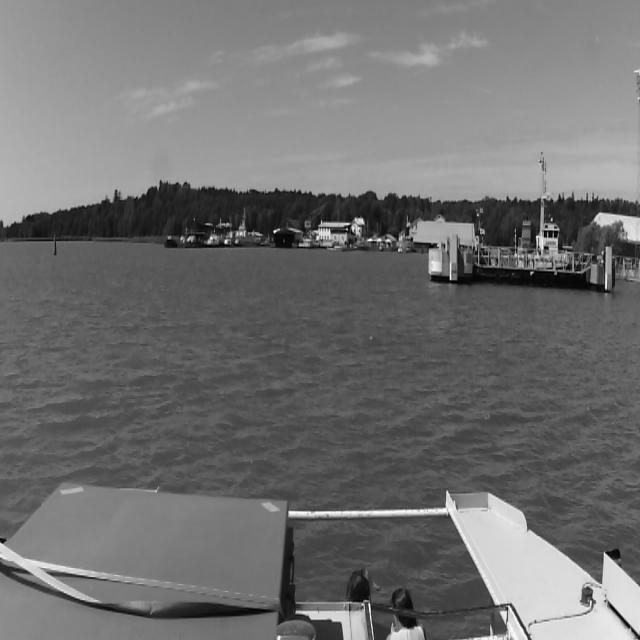buoy: (53, 235, 57, 255)
ship: (235, 223, 262, 245), (200, 230, 220, 247), (222, 224, 232, 247)
